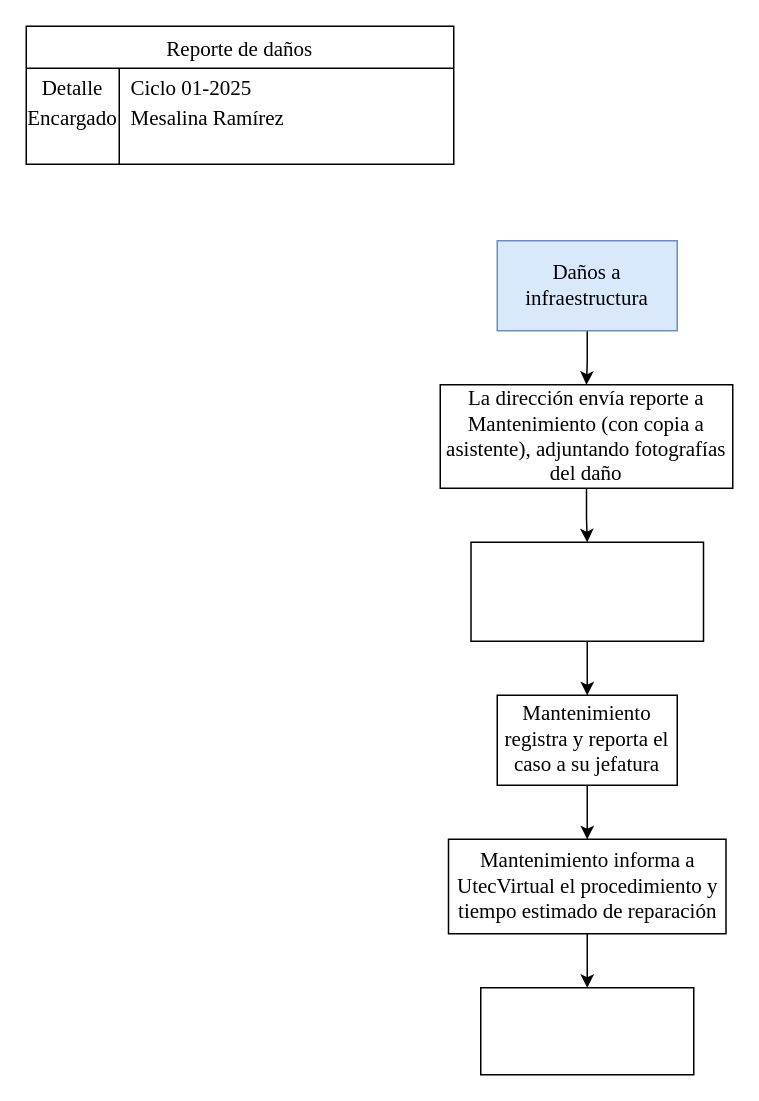
Some shapes in this 759 by 1101 pixel diagram are drawn without their labels. Here are the shapes that lost their labels. From the top down, the box of each, then its label:
(470, 541, 704, 641): Mantenimiento llega a la unidad, se le explica y se muestra el área afectada
(479, 986, 694, 1075): Mantenimiento reporta cuando la reparación ha sido finalizada
